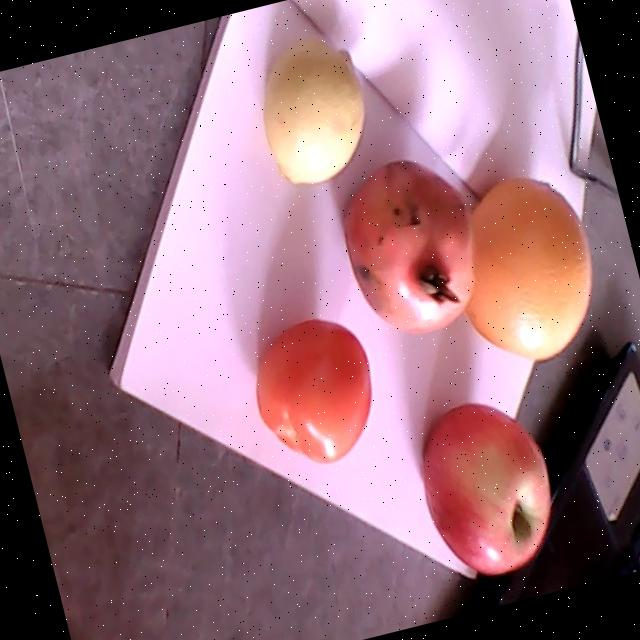apple: (419, 399, 549, 575)
lemon: (263, 44, 364, 185)
orange: (463, 177, 592, 358)
pomegranate: (338, 154, 477, 332)
tomato: (257, 318, 368, 461)
